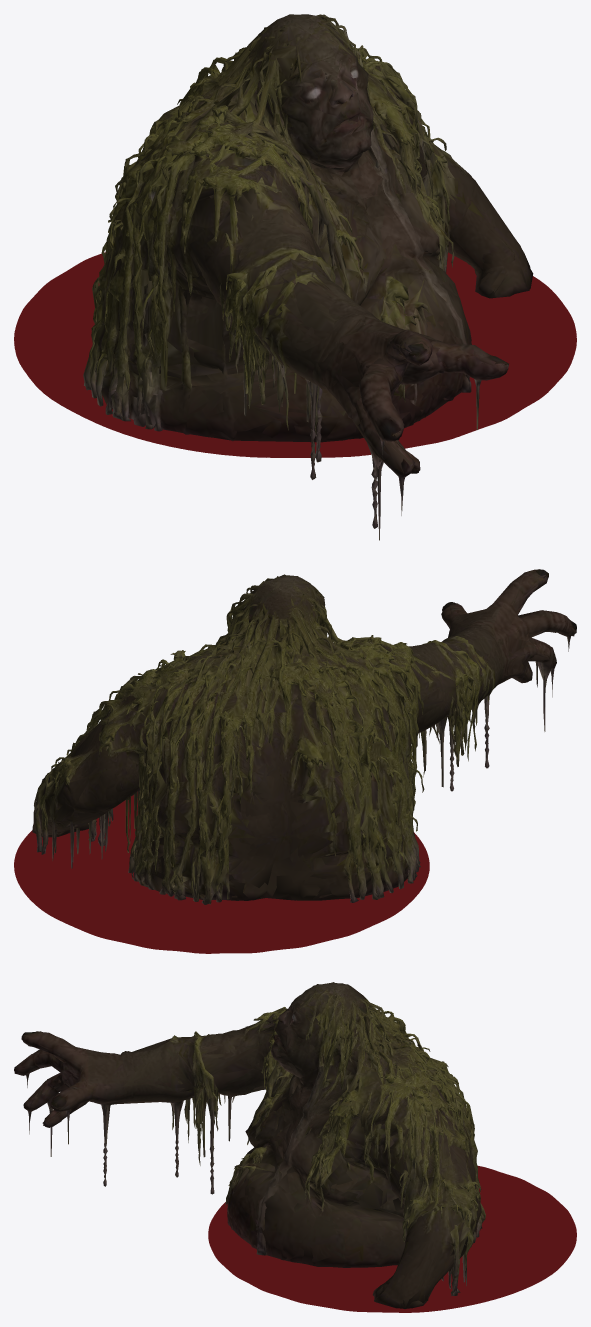
The model's file is drowner-meshy.glb.
3 views of the same model, one above another, from view 1: azimuth 30°, elevation 25°; view 2: azimuth 150°, elevation 25°; view 3: azimuth 270°, elevation 25° (orthographic). The views are drawn at different scales.
Visible parts, largest first — view 1: drowner-meshy_lod0_body, drowner-meshy_lod2_body, drowner-meshy_lod1_body, drowner-meshy_lod2_pool, drowner-meshy_lod1_pool, drowner-meshy_lod0_pool; view 2: drowner-meshy_lod0_body, drowner-meshy_lod2_body, drowner-meshy_lod1_body, drowner-meshy_lod1_pool, drowner-meshy_lod0_pool, drowner-meshy_lod2_pool; view 3: drowner-meshy_lod0_body, drowner-meshy_lod2_body, drowner-meshy_lod1_body, drowner-meshy_lod1_pool, drowner-meshy_lod2_pool, drowner-meshy_lod0_pool.
Part boxes in pixels (x1=…): drowner-meshy_lod0_body: x1=84, y1=14, x2=533, y2=540; drowner-meshy_lod2_body: x1=84, y1=14, x2=529, y2=471; drowner-meshy_lod1_body: x1=83, y1=14, x2=530, y2=527; drowner-meshy_lod2_pool: x1=14, y1=252, x2=576, y2=457; drowner-meshy_lod1_pool: x1=14, y1=254, x2=576, y2=457; drowner-meshy_lod0_pool: x1=14, y1=252, x2=576, y2=457; drowner-meshy_lod0_body: x1=32, y1=569, x2=576, y2=904; drowner-meshy_lod2_body: x1=34, y1=575, x2=574, y2=903; drowner-meshy_lod1_body: x1=33, y1=569, x2=576, y2=904; drowner-meshy_lod1_pool: x1=14, y1=825, x2=429, y2=953; drowner-meshy_lod0_pool: x1=14, y1=832, x2=429, y2=953; drowner-meshy_lod2_pool: x1=14, y1=791, x2=429, y2=953; drowner-meshy_lod0_body: x1=14, y1=982, x2=485, y2=1308; drowner-meshy_lod2_body: x1=14, y1=982, x2=485, y2=1307; drowner-meshy_lod1_body: x1=14, y1=983, x2=484, y2=1308; drowner-meshy_lod1_pool: x1=208, y1=1166, x2=576, y2=1312; drowner-meshy_lod2_pool: x1=208, y1=1165, x2=576, y2=1312; drowner-meshy_lod0_pool: x1=208, y1=1168, x2=576, y2=1312.
Bounding box in the file's own units: 1.04 × 0.7454 × 1.59.
2 materials, 1 textured.
